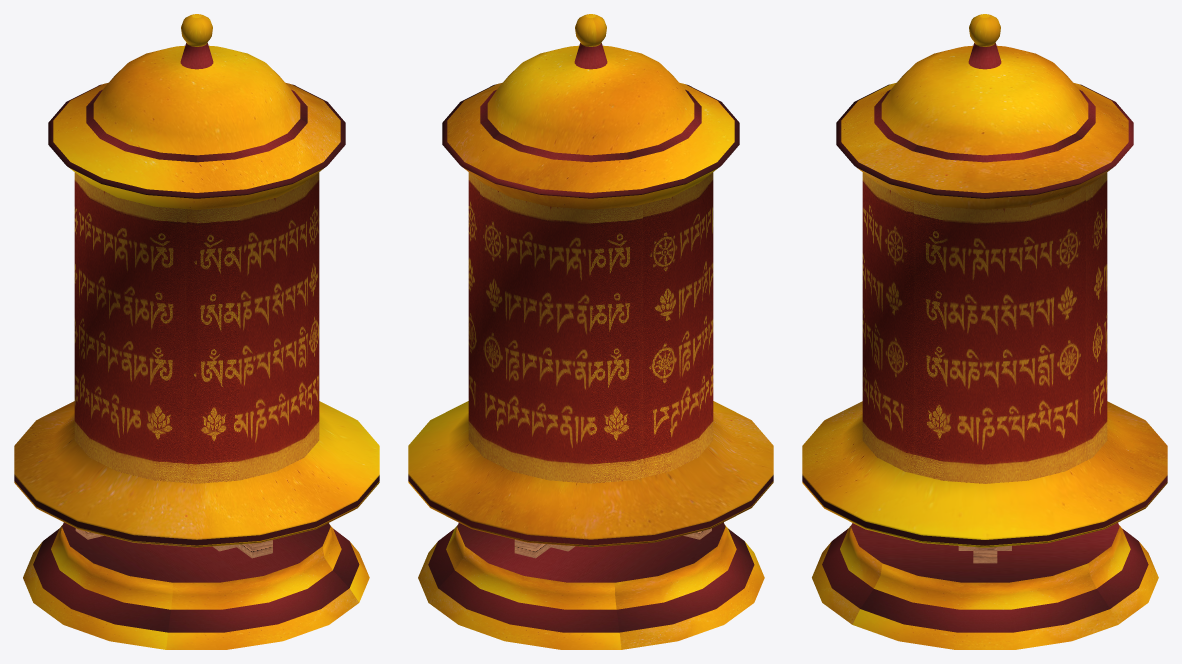
Rendered from prayer-wheel.glb.
3 views of the same model, side by side, from view 1: azimuth 30°, elevation 25°; view 2: azimuth 150°, elevation 25°; view 3: azimuth 270°, elevation 25° (orthographic).
Visible parts, largest first — view 1: Cylinder, Cylinder.001; view 2: Cylinder, Cylinder.001; view 3: Cylinder, Cylinder.001.
Part boxes in pixels (bbox=[...]): Cylinder: bbox=[14, 14, 379, 558]; Cylinder.001: bbox=[23, 522, 369, 649]; Cylinder: bbox=[408, 14, 773, 558]; Cylinder.001: bbox=[418, 522, 764, 649]; Cylinder: bbox=[802, 14, 1167, 563]; Cylinder.001: bbox=[812, 523, 1158, 649].
Size of the model in its own units: 2 by 3.34 by 1.97.
Materials: 4 (4 with a texture image).
